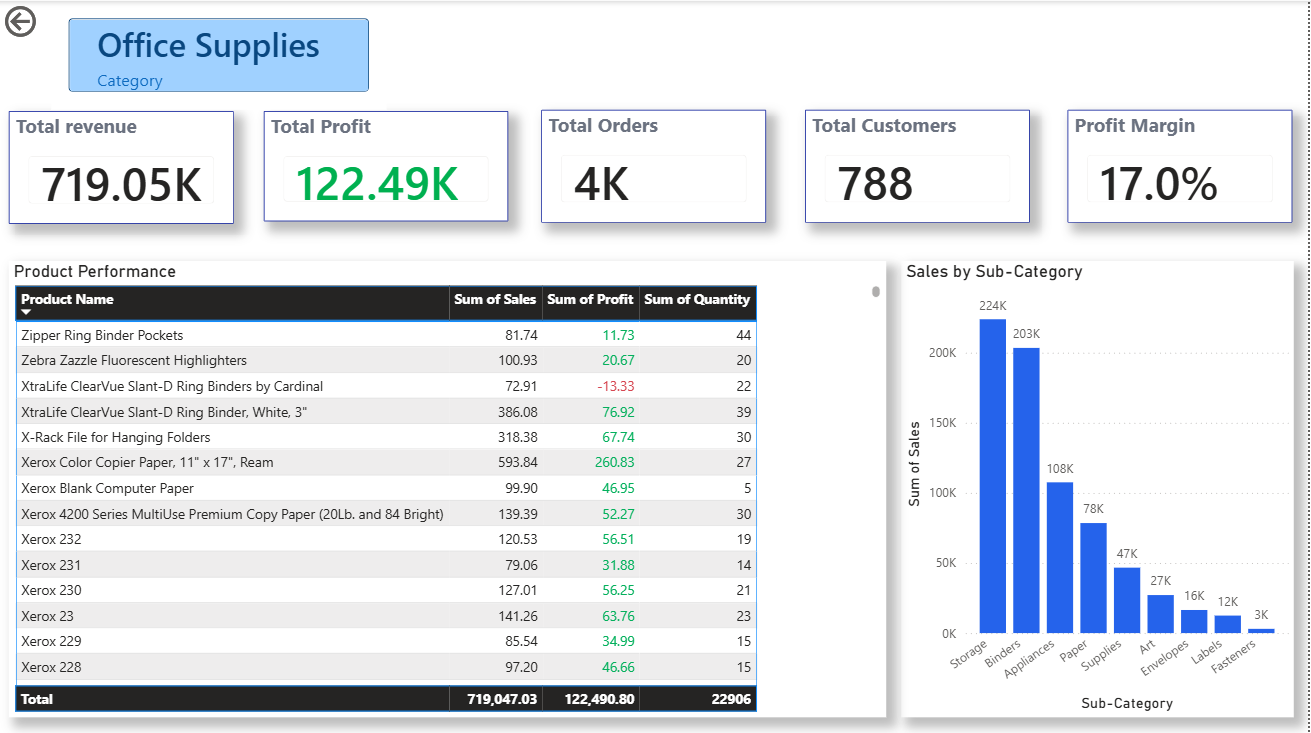

The page's visual inventory and layout, read from the dashboard file:
{"tool":"powerbi","page":{"name":"Catergory Details","canvas":[1280,720],"ordinal":1},"visuals":[{"type":"actionButton","box":[0,0,100,40],"z":0},{"type":"actionButton","box":[0,0,100,40],"z":1000},{"type":"cardVisual","title":"Total revenue","fields":{"Data":["Sample - Superstore.Total Sales"]},"box":[8,108,220,110],"z":2000},{"type":"cardVisual","title":"Total Customers","fields":{"Data":["Sample - Superstore.total Customers"]},"box":[788,106,220,110],"z":3000},{"type":"cardVisual","title":"Total Orders","fields":{"Data":["Sample - Superstore.Total Orders"]},"box":[530,106,220,110],"z":4000},{"type":"cardVisual","title":"Total Profit","fields":{"Data":["Sample - Superstore.Total Profit"]},"box":[258,108,239,108],"z":5000},{"type":"cardVisual","title":"Profit Margin","fields":{"Data":["Sample - Superstore.Profit Margin"]},"box":[1044,106,220,110],"z":6000},{"type":"clusteredColumnChart","title":"Sales by Sub-Category","fields":{"Category":["Sample - Superstore.Sub-Category"],"Y":["Sum(Sample - Superstore.Sales)"]},"box":[882,254,384,446],"z":7000},{"type":"tableEx","title":"Product Performance","fields":{"Values":["Sample - Superstore.Product Name","Sum(Sample - Superstore.Sales)","Sum(Sample - Superstore.Profit)","Sum(Sample - Superstore.Quantity)"]},"box":[8,254,858,446],"z":8000},{"type":"cardVisual","fields":{"Data":["Min(Sample - Superstore.Category)"]},"box":[50,0,328,106],"z":9000}]}

Visuals, with their boxes in screenshot pixels (x1, y1, x2, y2), scaled from the page's 1280x720 canvas onto the 1311x733 screenshot:
actionButton: (0, 0, 102, 41)
actionButton: (0, 0, 102, 41)
"Total revenue" cardVisual: (8, 110, 234, 222)
"Total Customers" cardVisual: (807, 108, 1032, 220)
"Total Orders" cardVisual: (543, 108, 768, 220)
"Total Profit" cardVisual: (264, 110, 509, 220)
"Profit Margin" cardVisual: (1069, 108, 1295, 220)
"Sales by Sub-Category" clusteredColumnChart: (903, 259, 1297, 713)
"Product Performance" tableEx: (8, 259, 887, 713)
cardVisual - Min(Sample - Superstore.Category): (51, 0, 387, 108)
